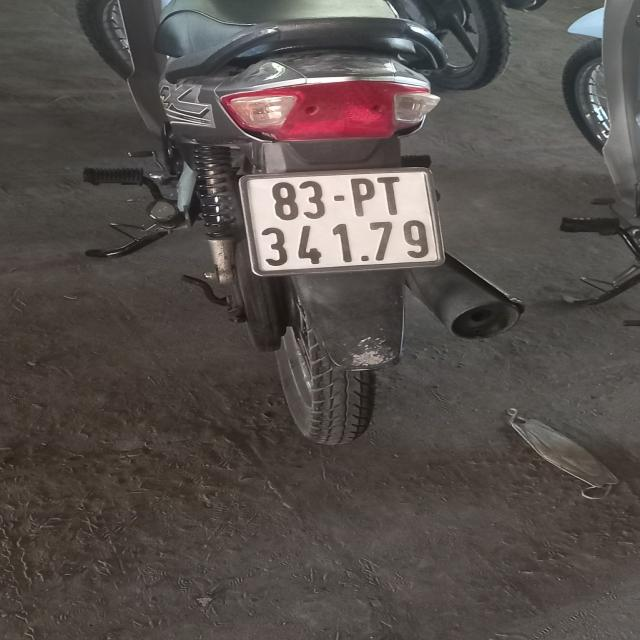1: (332, 223, 352, 263)
3: (260, 228, 288, 266), (300, 180, 324, 220)
4: (298, 225, 321, 264)
7: (370, 222, 395, 261)
8: (271, 182, 298, 220)
9: (403, 220, 429, 258)
P: (349, 178, 375, 217)
T: (377, 176, 401, 214)
